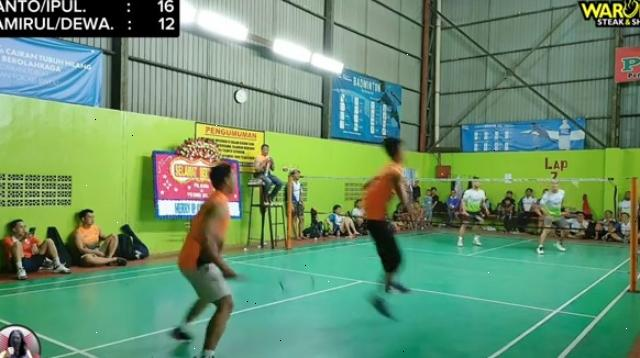Shuttlecock: (569, 179, 581, 192)
